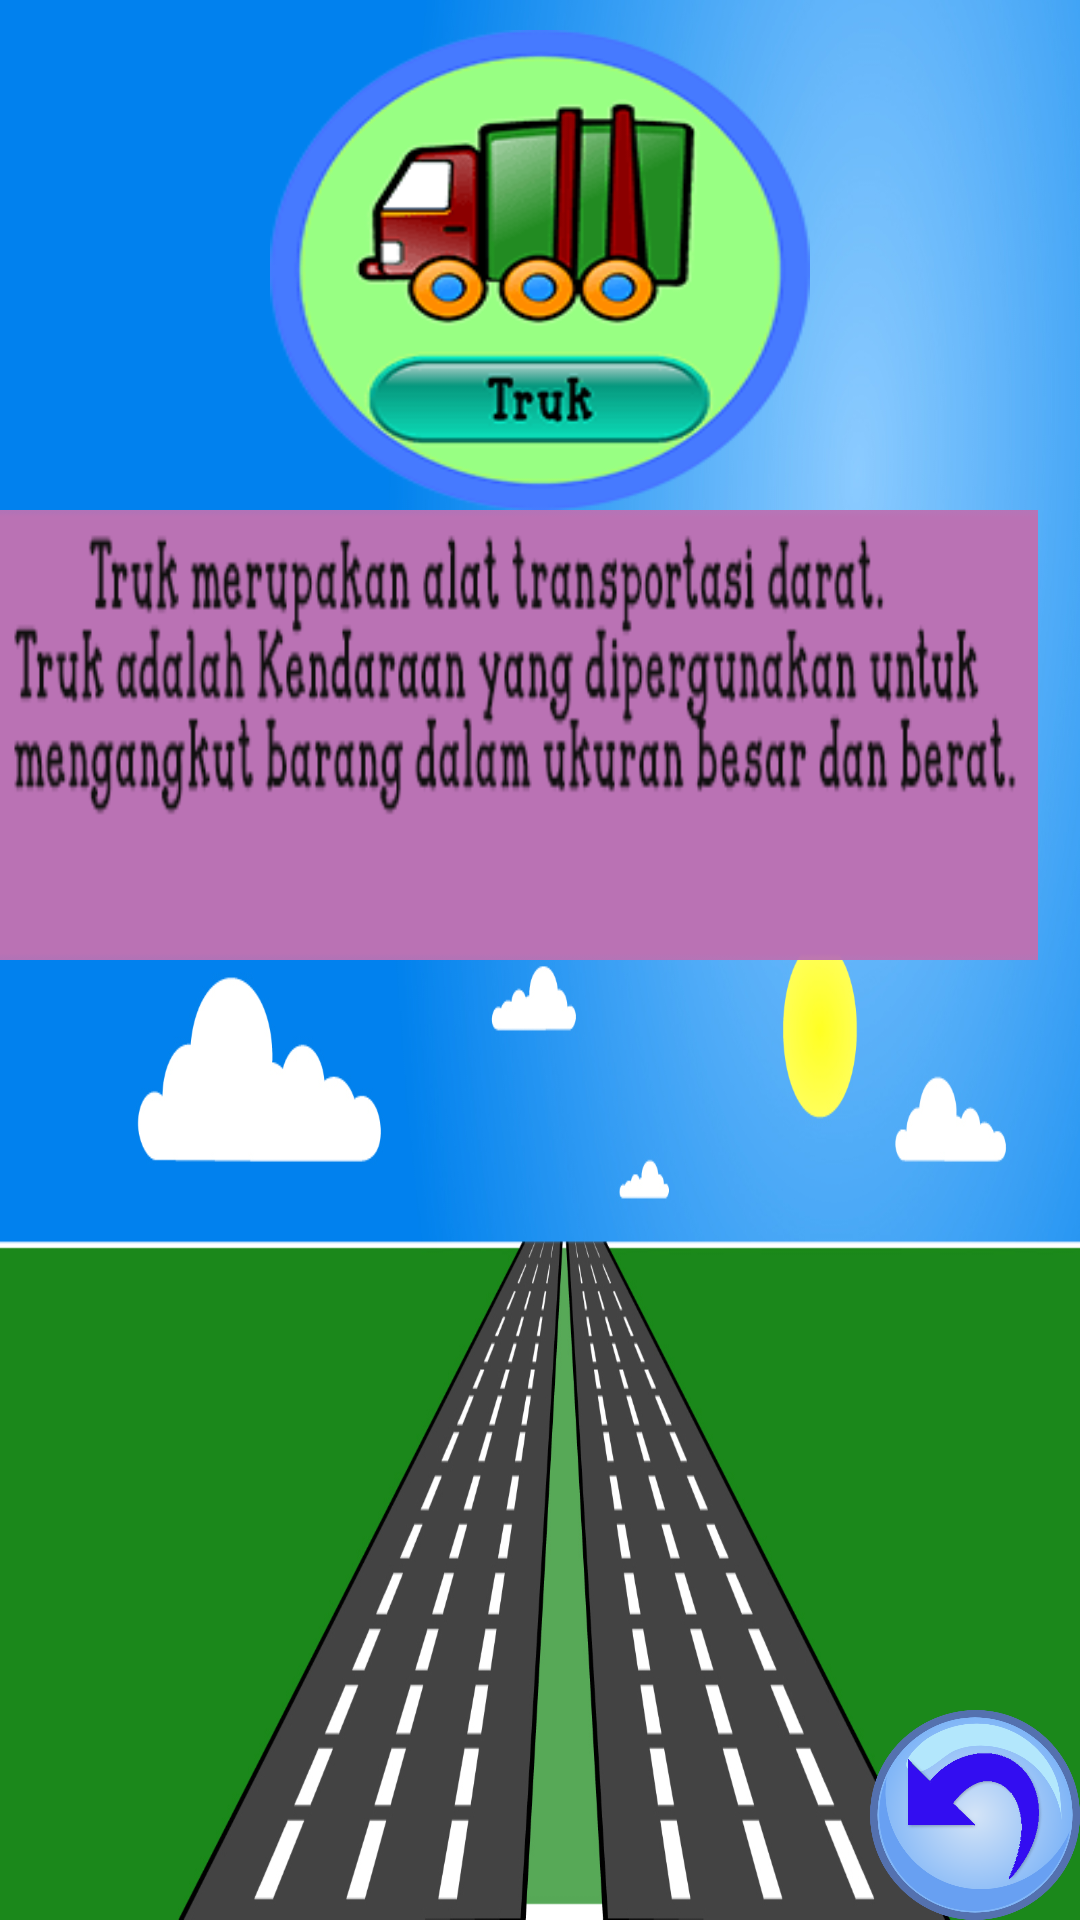

Named icons in this screenshot (1080x1920) and their bounding boxes, (x1, y1, x2, y2):
back: (870, 1710, 1080, 1920)
